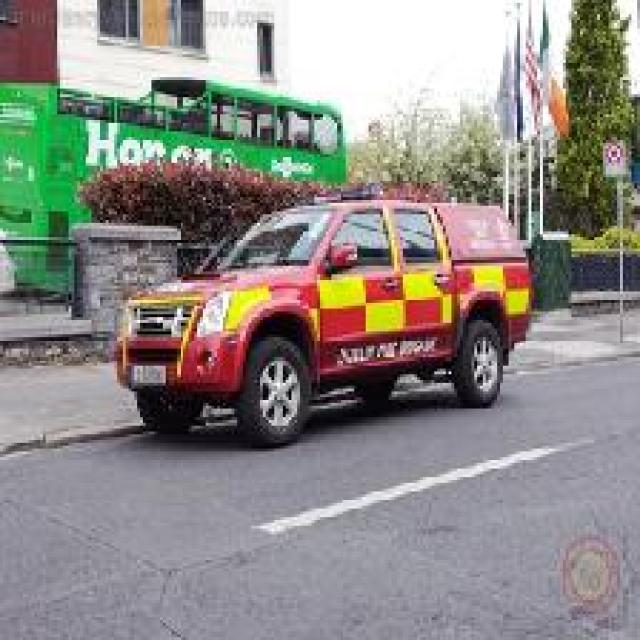Police-car: (109, 183, 534, 446)
